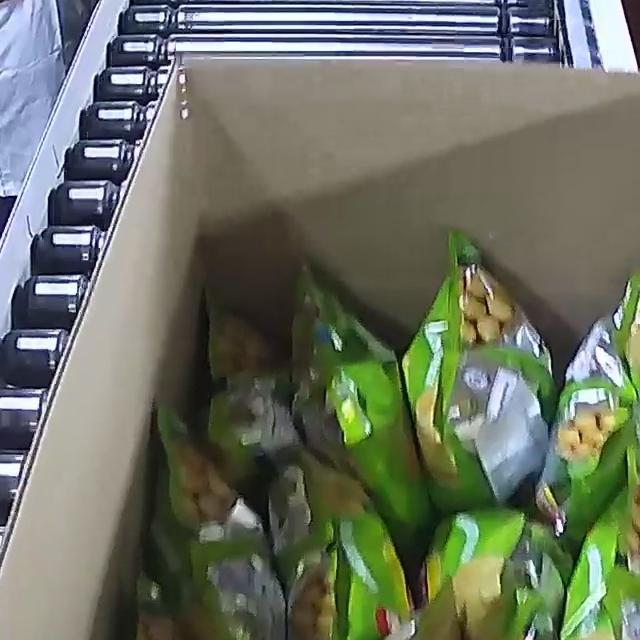yogurt: (130, 229, 640, 640)
